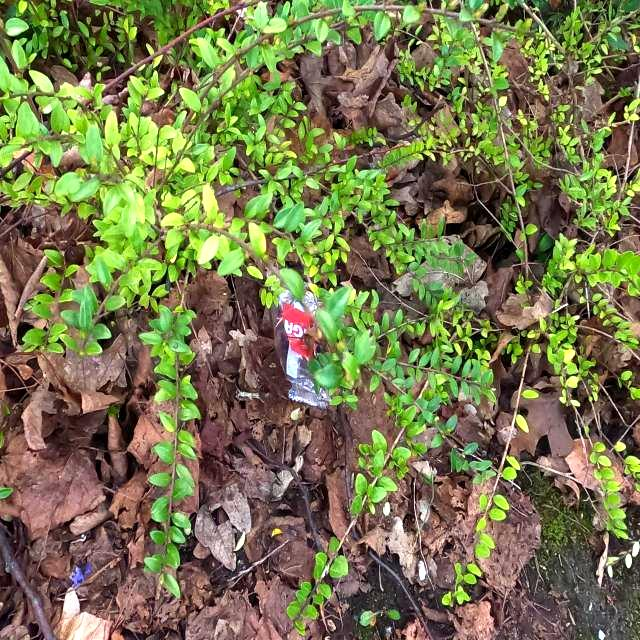Plastic: (266, 270, 340, 410)
